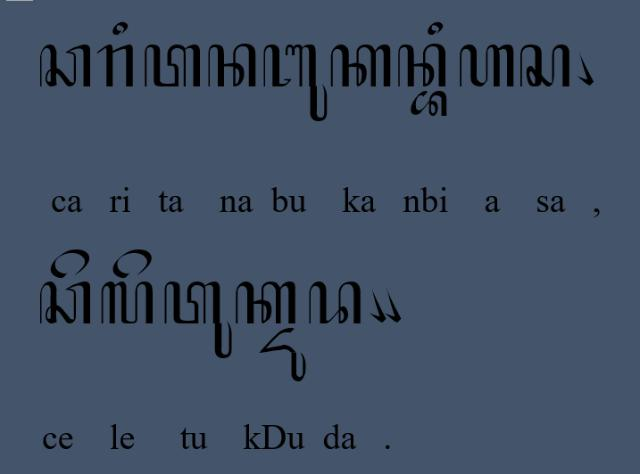_b: (409, 90, 448, 118)
_du: (258, 326, 306, 384)
bu: (262, 42, 328, 124)
c: (39, 278, 91, 326), (38, 43, 92, 88)
d: (306, 280, 362, 326)
e: (110, 247, 154, 280), (50, 248, 90, 280)
h: (457, 42, 515, 88)
i: (426, 20, 444, 38), (112, 21, 128, 37)
k: (328, 41, 392, 90), (233, 280, 297, 326)
kom: (576, 52, 596, 86), (367, 288, 387, 322), (383, 288, 401, 324)
l: (100, 280, 154, 328)
n: (206, 41, 258, 89), (396, 42, 448, 90)
r: (96, 44, 136, 90)
s: (518, 43, 572, 89)
t: (142, 41, 202, 89)
tu: (162, 278, 234, 360)
